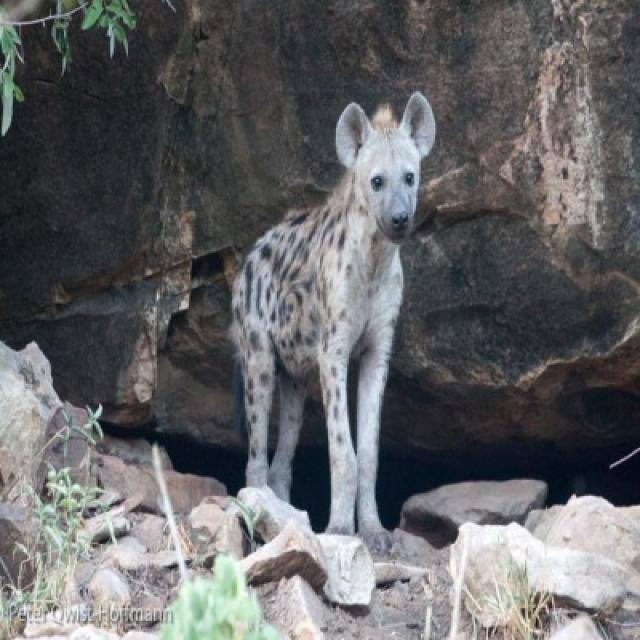hyena: (229, 93, 438, 552)
